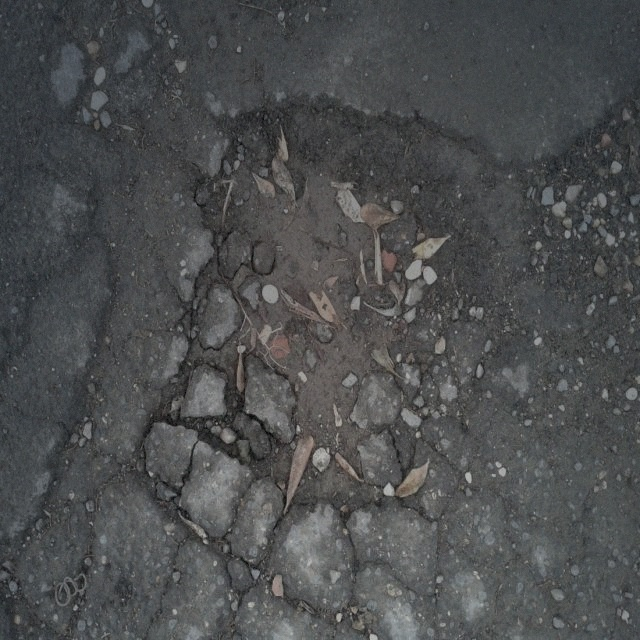pothole: (199, 88, 520, 518)
